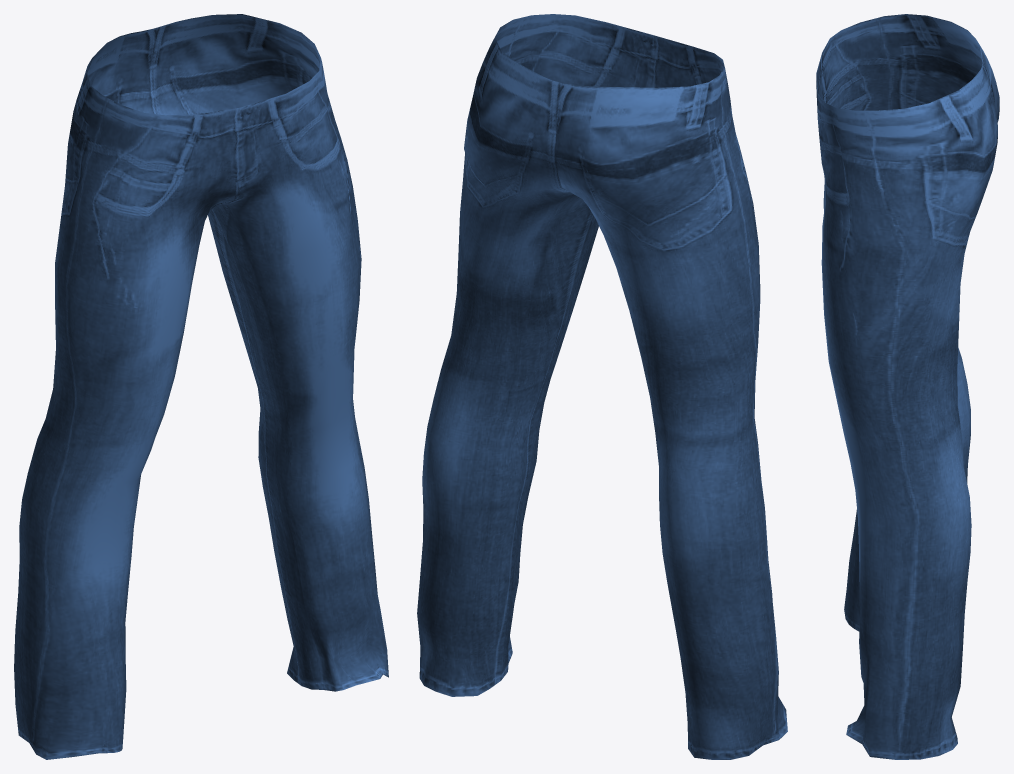
Rendered from clothing_jeans.glb.
3 views of the same model, side by side, from view 1: azimuth 30°, elevation 25°; view 2: azimuth 150°, elevation 25°; view 3: azimuth 270°, elevation 25° (orthographic). The views are drawn at different scales.
Visible parts, largest first — view 1: Cloth_jeans; view 2: Cloth_jeans; view 3: Cloth_jeans.
Boxes of the visible parts, box(x1,y1,x2,y2) form: Cloth_jeans: box(14, 14, 388, 759); Cloth_jeans: box(417, 14, 787, 759); Cloth_jeans: box(816, 14, 999, 759).
Bounding box in the file's own units: 0.5078 × 0.9314 × 0.2468.
1 material, 1 textured.
